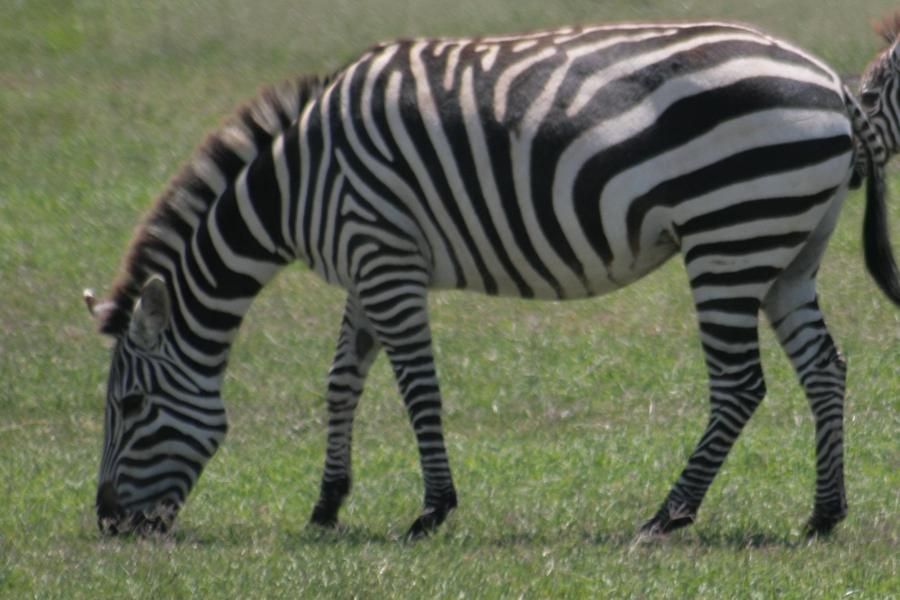zebra_plains: (284, 23, 828, 321)
